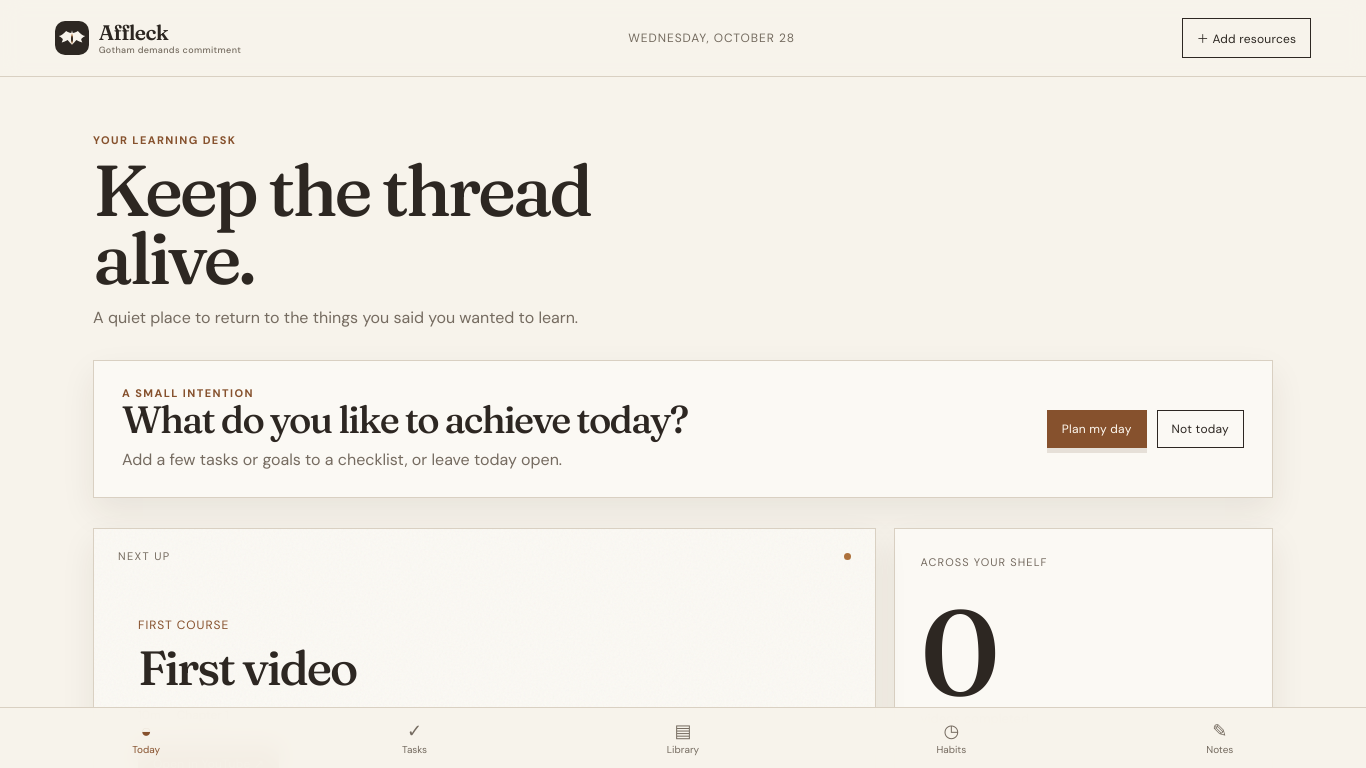
group containers › shows grouped items only inside their group, including search and the return from detail
Click the button "▤ Library": (683, 738) [549, 717, 817, 759]
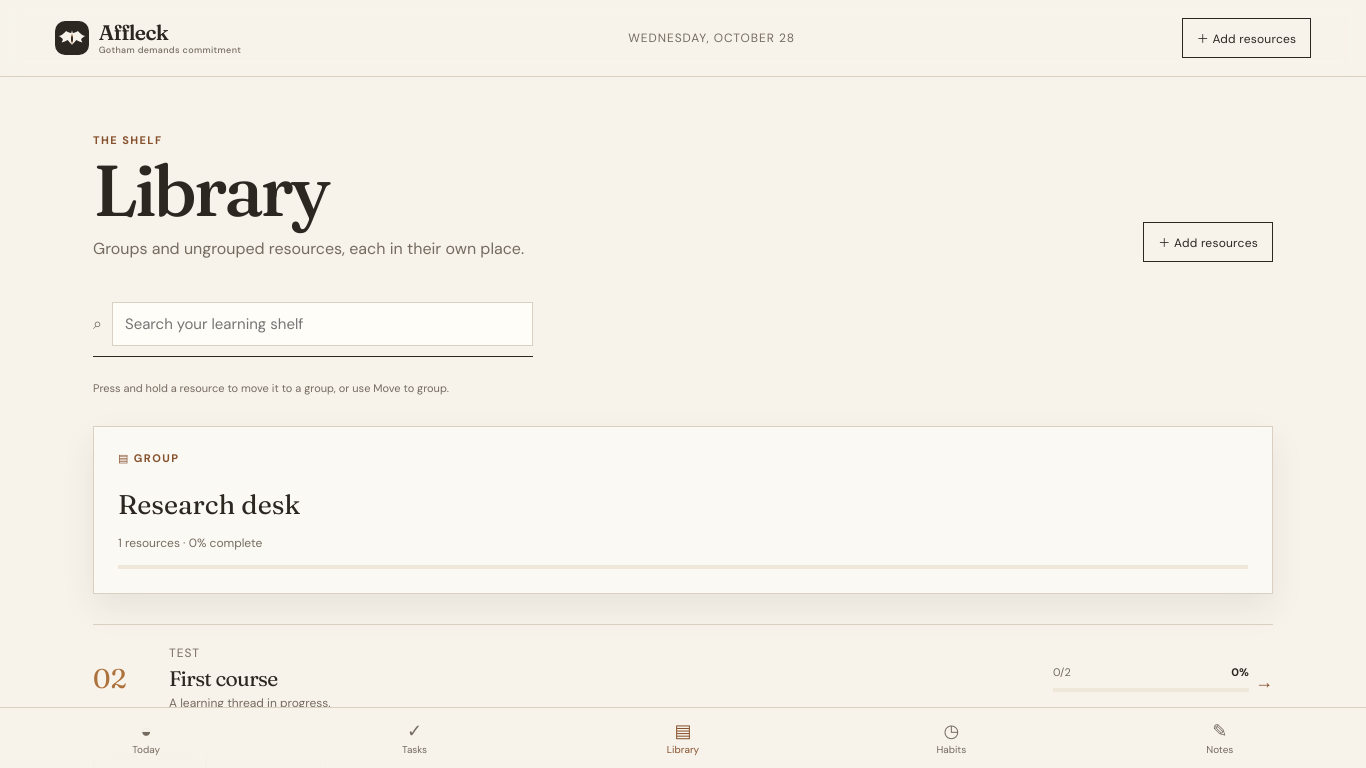
Expected: the element "Grouped paper" is not shown
In the field with placeholder "Search your learning shelf": (322, 324) [112, 302, 533, 346], type "Grouped paper"
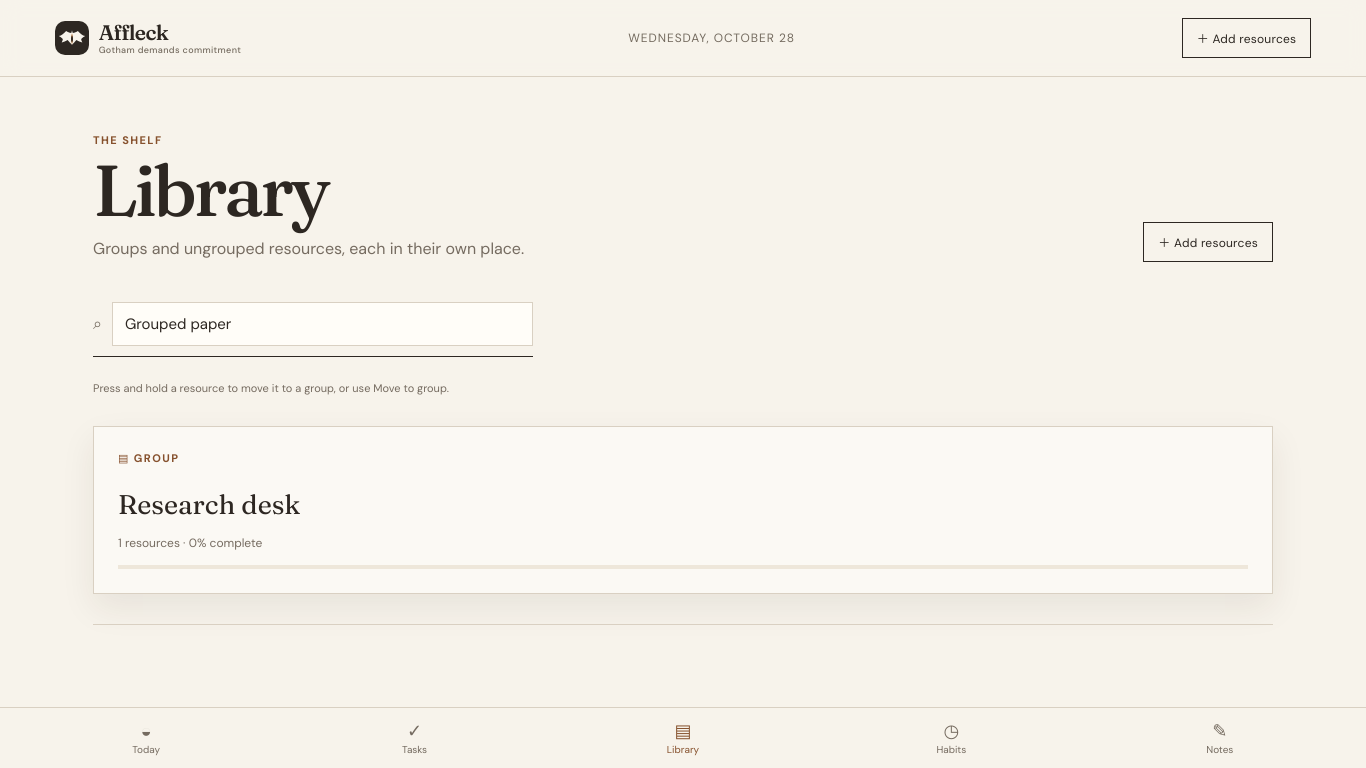
Click the button with aria-label "Open group Research desk": (683, 510) [93, 426, 1273, 594]
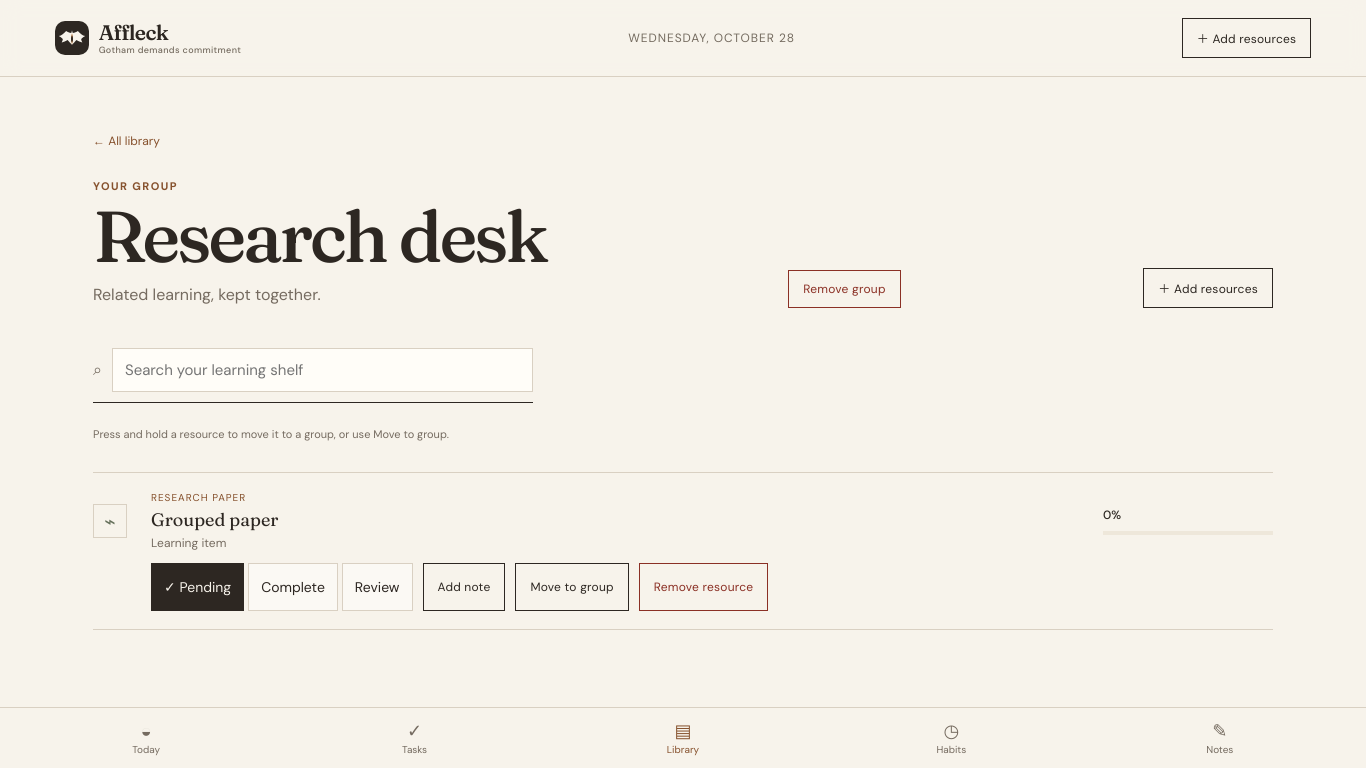
Result: the element "Grouped paper" is shown at [93, 474, 1273, 630]
Click the button with aria-label "Open Grouped paper": (110, 521) [93, 492, 1273, 552]
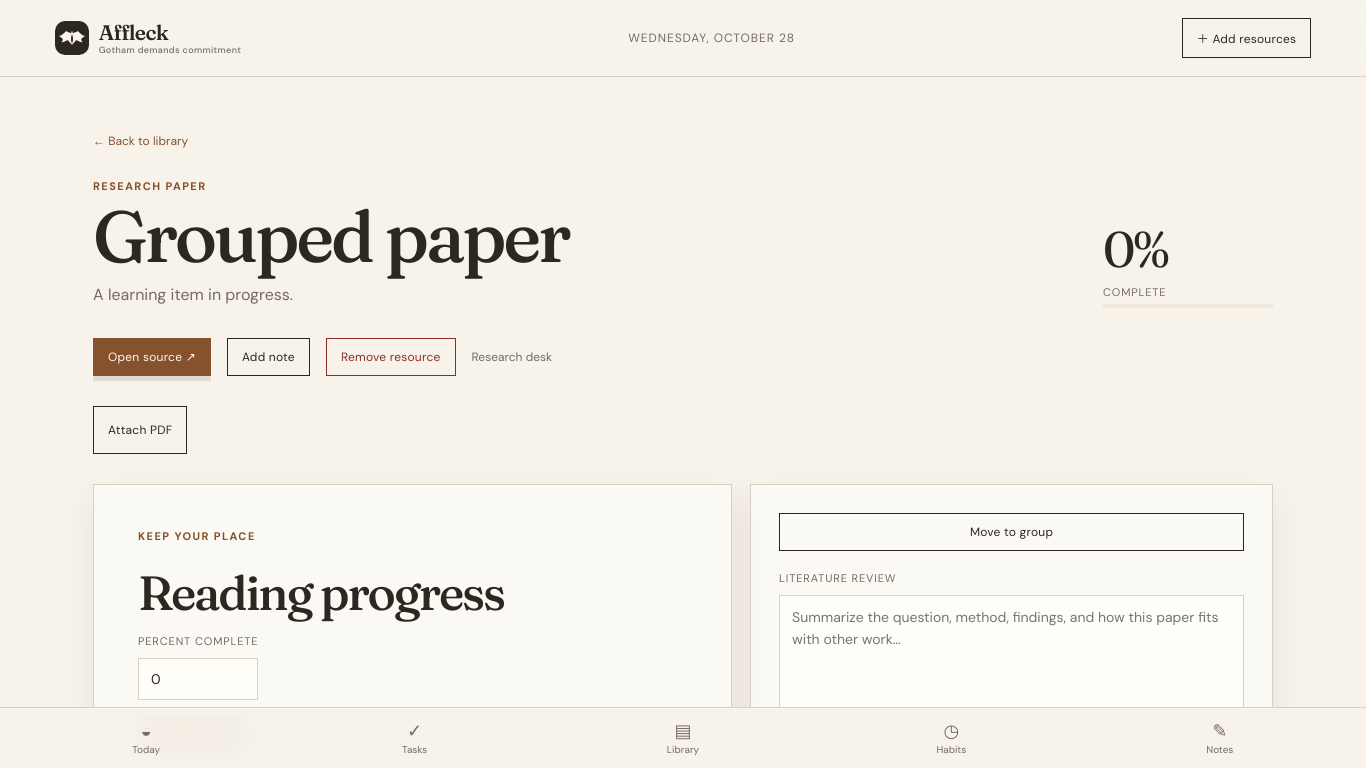
Click the button "← Back to library": (141, 141) [93, 133, 188, 149]
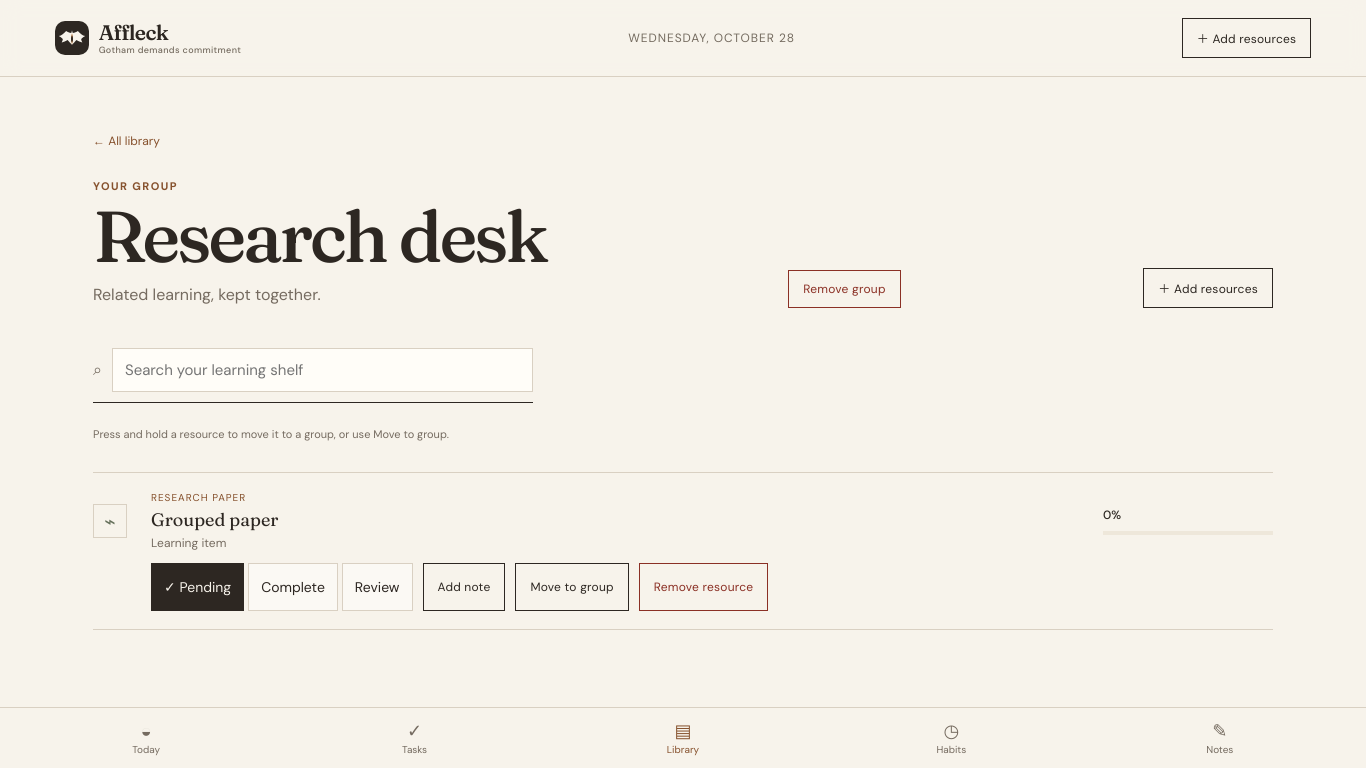
Result: the heading "Research desk" is shown at [93, 202, 546, 270]
Click the button "← All library": (126, 141) [93, 133, 160, 149]
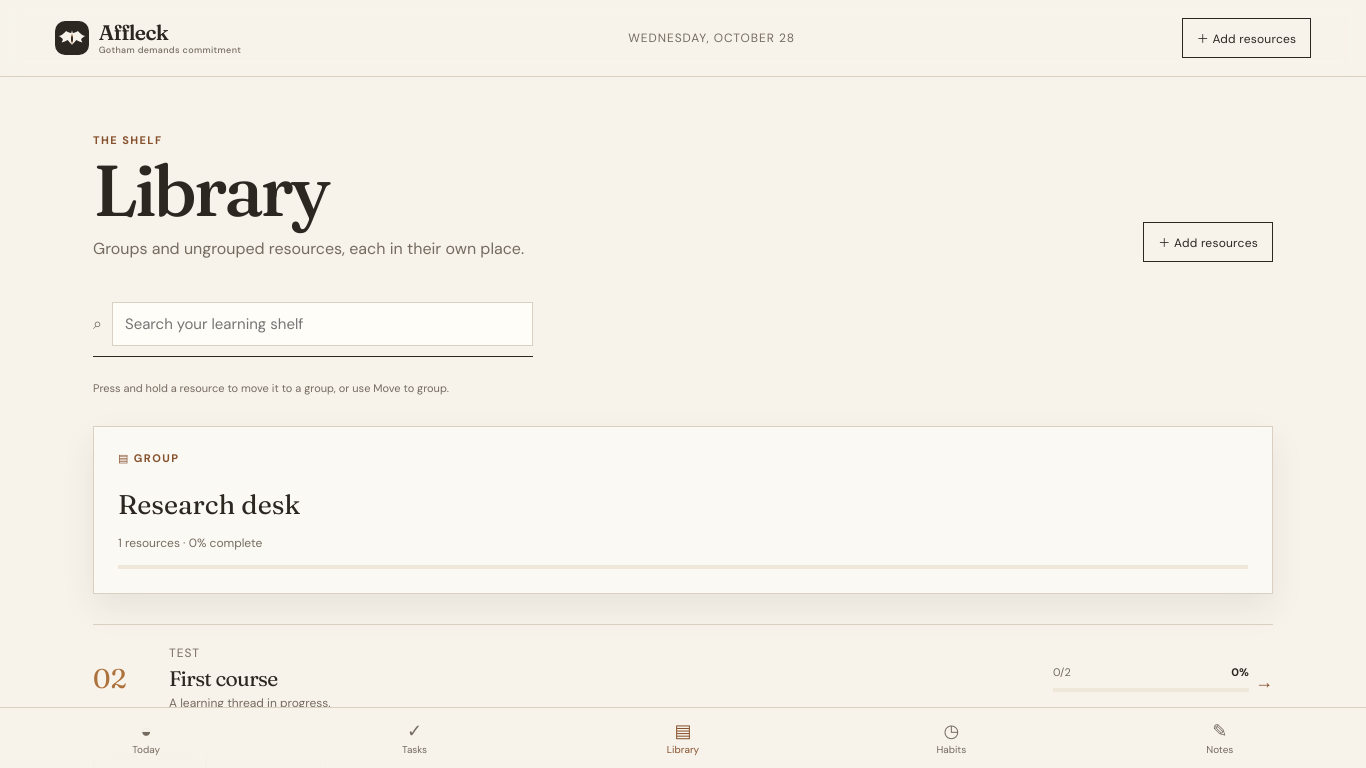
Result: the button "Grouped paper" is gone
